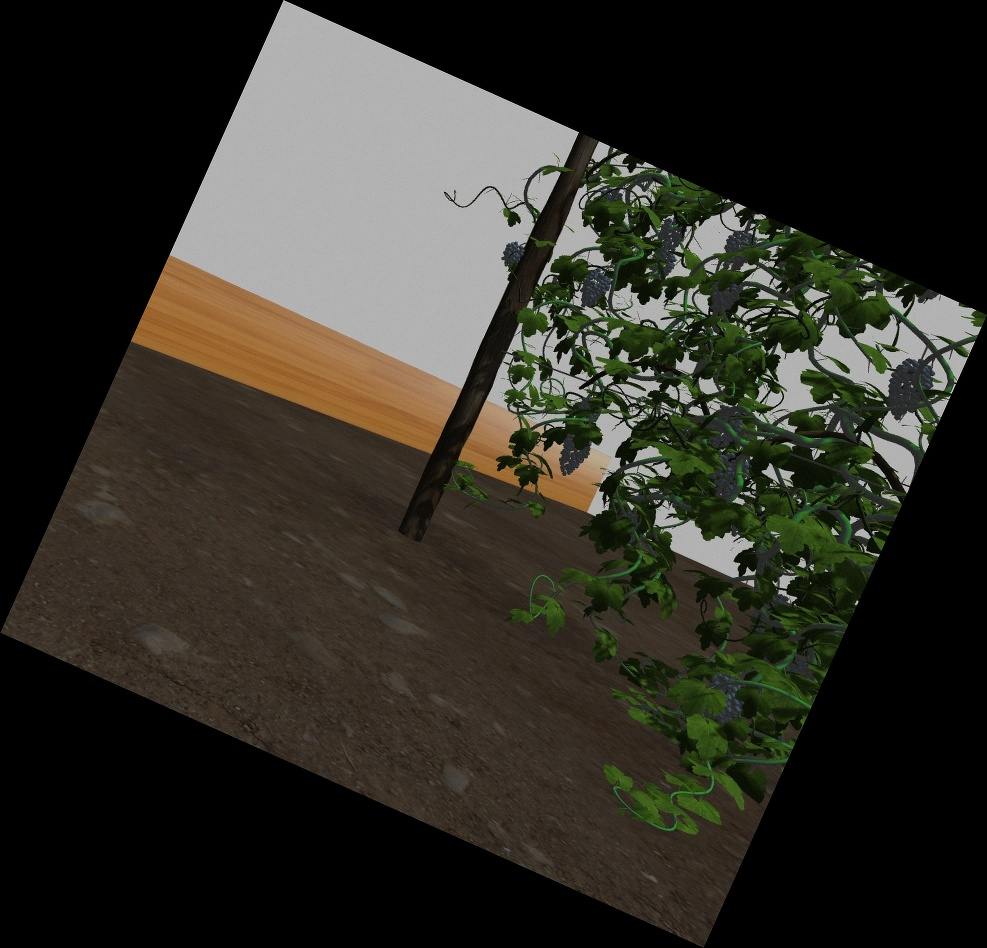grape: (887, 360, 930, 420), (705, 677, 743, 723), (715, 453, 747, 497), (559, 434, 587, 477), (706, 278, 738, 312), (581, 270, 609, 308), (724, 231, 753, 267), (658, 222, 682, 250), (502, 241, 522, 271), (652, 250, 675, 276)
